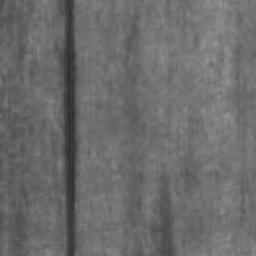Scratches: (63, 0, 79, 256)
